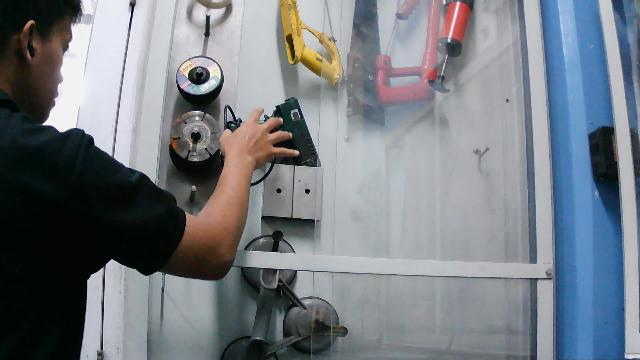gun_lem: (216, 93, 326, 176)
